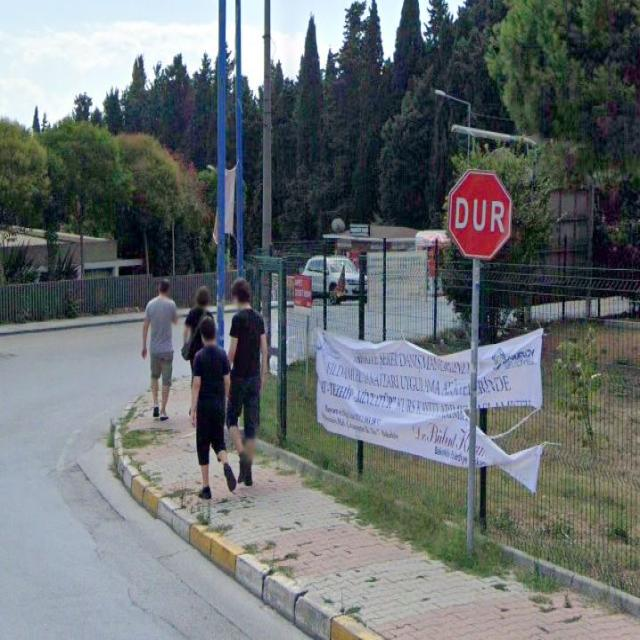dur: (448, 170, 512, 260)
